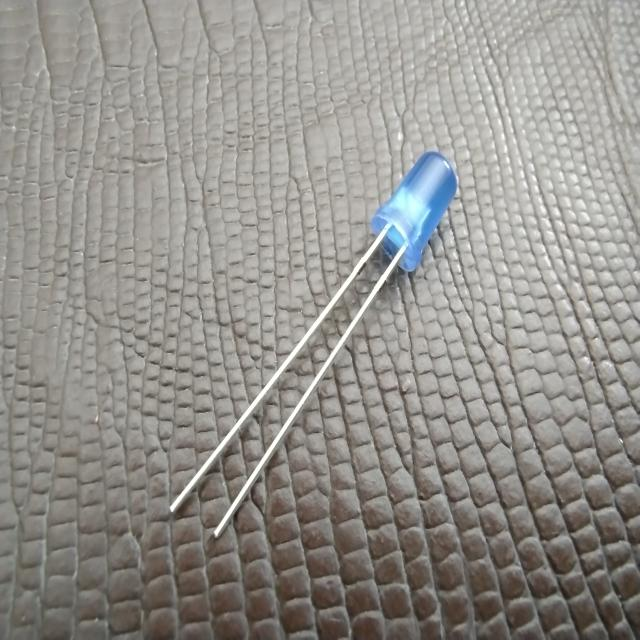blue_led: (369, 149, 458, 274)
